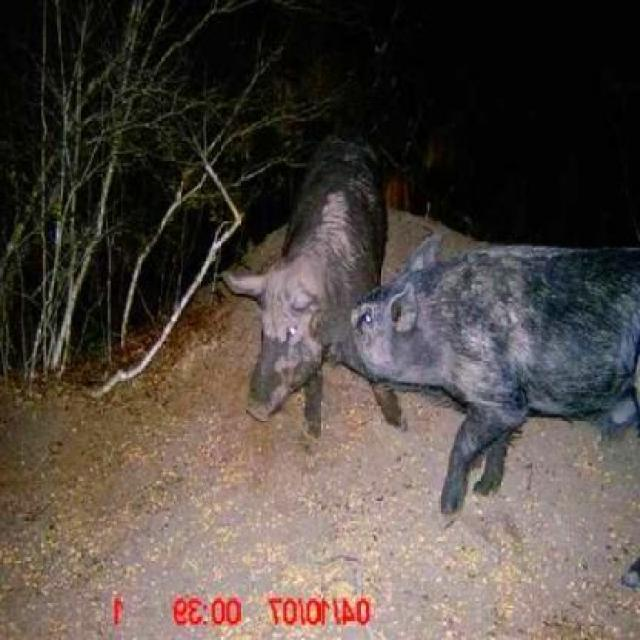Boar: (172, 98, 426, 490), (352, 231, 640, 575)
